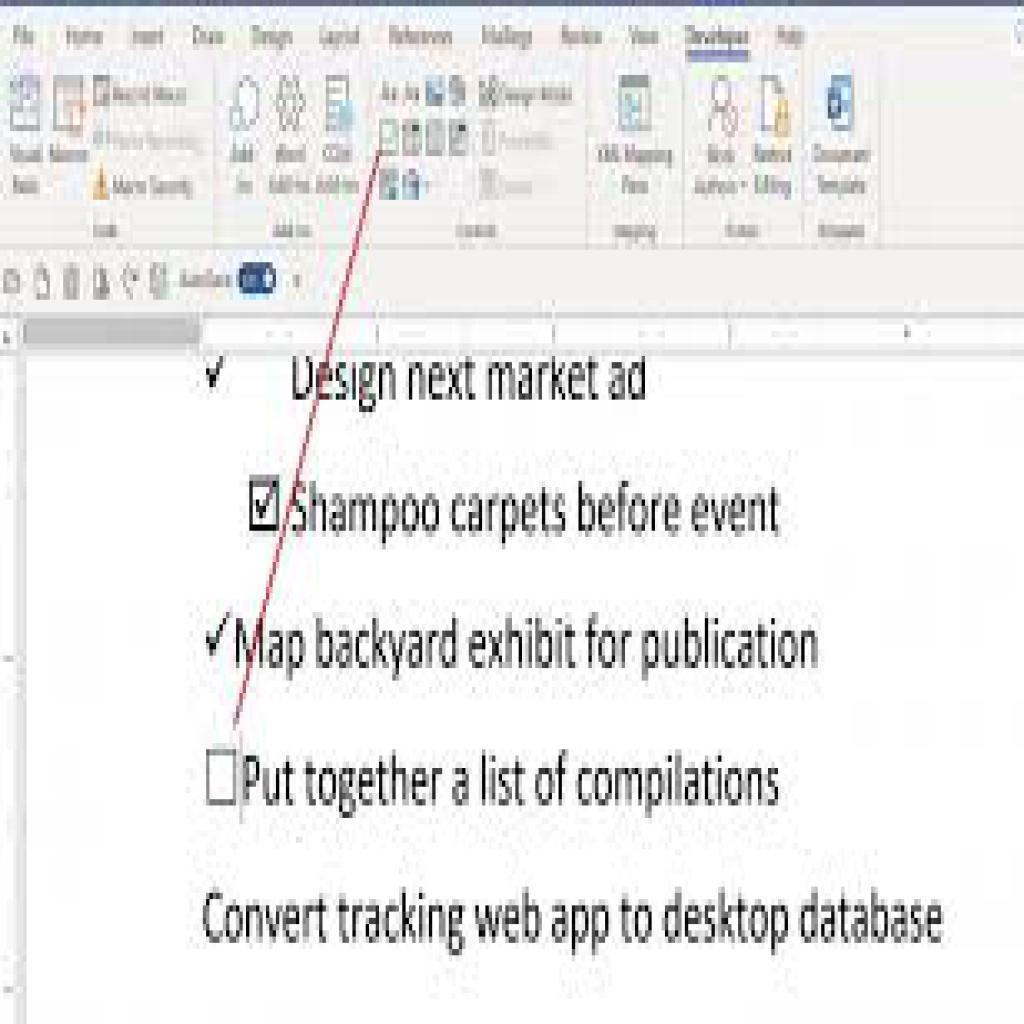checkbox: (206, 750, 236, 809), (250, 475, 279, 531)
label: (288, 477, 788, 549), (242, 754, 786, 817)
